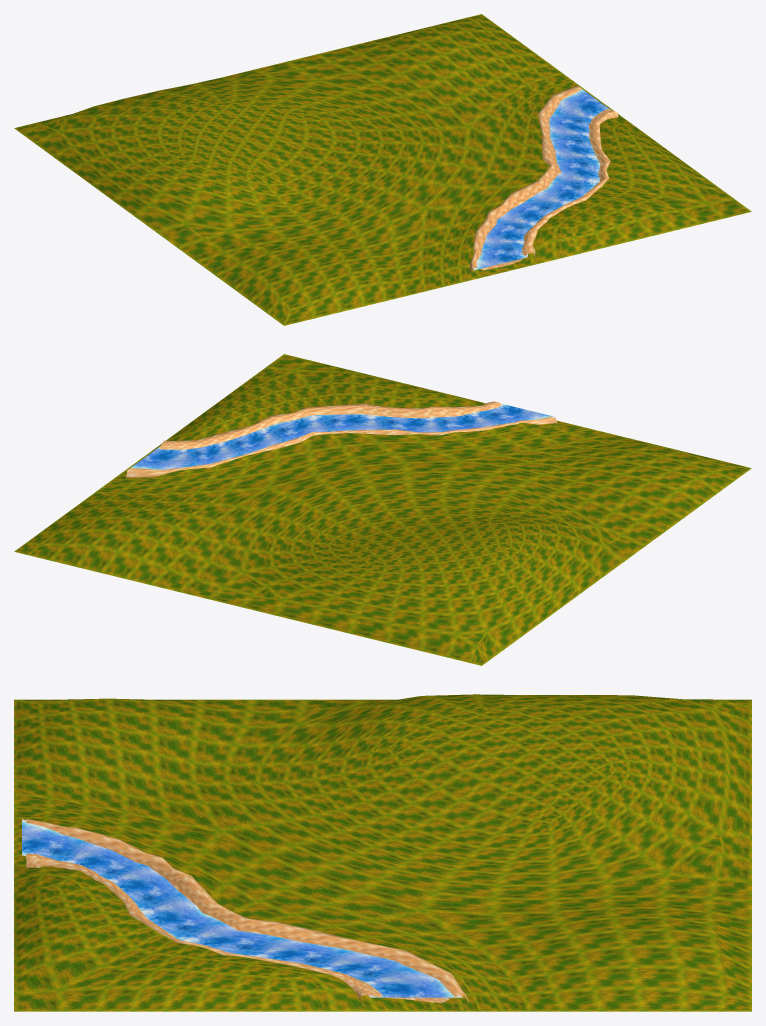
The model's file is AG_Floor_Grass_Art.fbx.
The picture shows the model from 3 angles, top to bottom: view 1: azimuth 30°, elevation 25°; view 2: azimuth 150°, elevation 25°; view 3: azimuth 270°, elevation 25°; orthographic projection. The views are drawn at different scales.
Parts seen in each view (by area): view 1: Terrain_AG, River_AG, Terrain_Sand_River_AG; view 2: Terrain_AG, River_AG, Terrain_Sand_River_AG; view 3: Terrain_AG, River_AG, Terrain_Sand_River_AG.
Part boxes in pixels (bbox=[...]): Terrain_AG: bbox=[14, 14, 751, 325]; River_AG: bbox=[473, 88, 611, 270]; Terrain_Sand_River_AG: bbox=[469, 85, 618, 273]; Terrain_AG: bbox=[14, 354, 751, 665]; River_AG: bbox=[131, 404, 556, 469]; Terrain_Sand_River_AG: bbox=[126, 401, 557, 477]; Terrain_AG: bbox=[14, 694, 751, 1011]; River_AG: bbox=[22, 819, 462, 997]; Terrain_Sand_River_AG: bbox=[26, 819, 469, 1003].
Size of what is drawn, in the model's own units: 6400 by 383 by 6400.
Materials: 3 (3 with a texture image).
